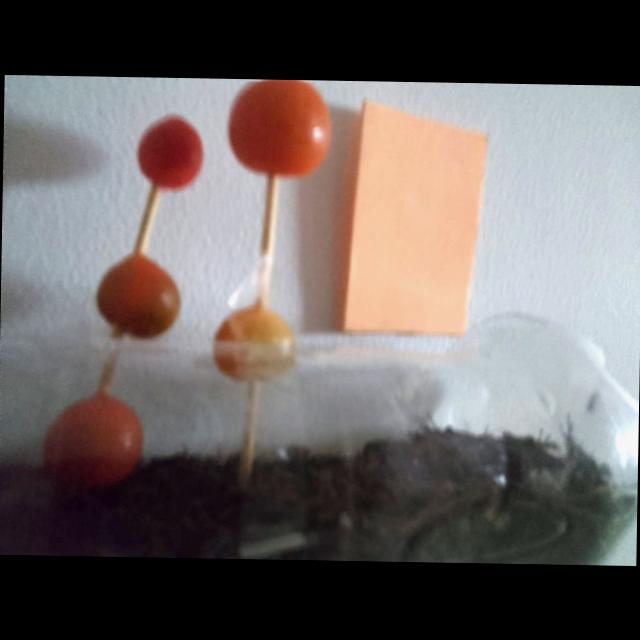card: (341, 100, 486, 335)
fruit_maturation: (213, 306, 295, 381)
fully_grown: (228, 79, 330, 176), (43, 391, 143, 486), (96, 254, 180, 338), (137, 115, 202, 196)
